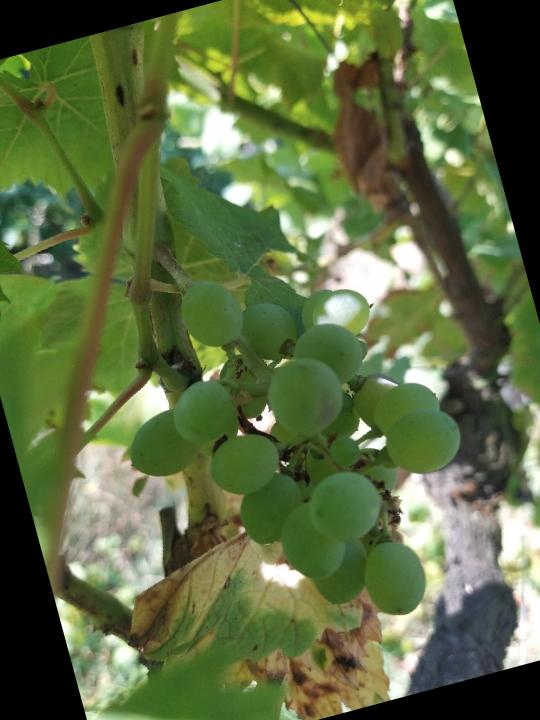grape: (87, 223, 507, 676)
